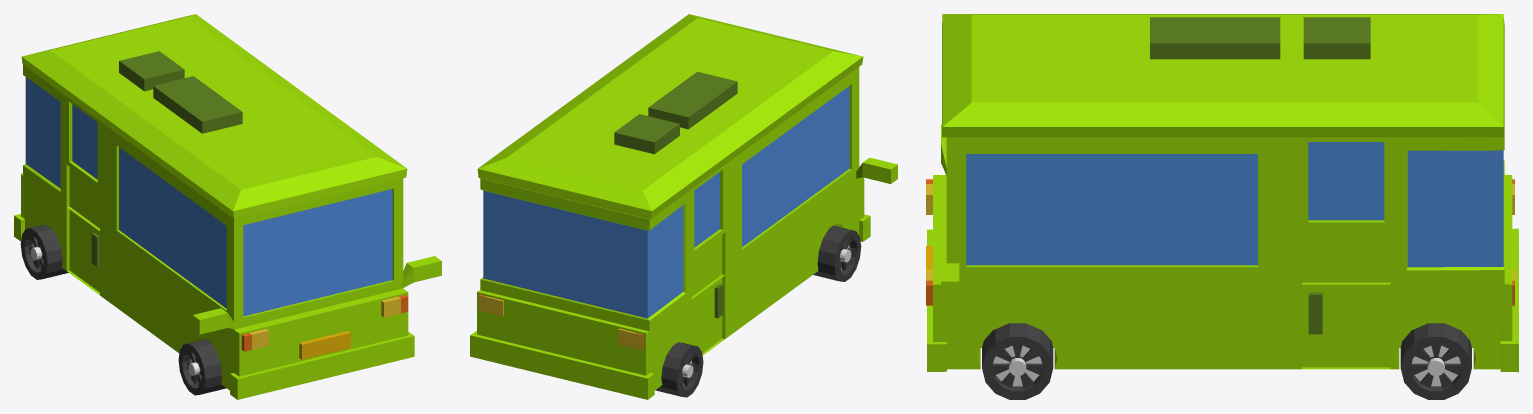
Rendered from bus.fbx.
3 renders of one model, left to right at view 1: azimuth 30°, elevation 25°; view 2: azimuth 150°, elevation 25°; view 3: azimuth 270°, elevation 25°, orthographic. The views are drawn at different scales.
Parts seen in each view (by area): view 1: bus.001, Cube.237, Cylinder.108, Cylinder.109, Cube.238, Cube.233, Cube.234, Cube.235; view 2: bus.001, Cube.237, Cylinder.108, Cylinder.109, Cube.238, Cube.236, Cube.233; view 3: bus.001, Cube.237, Cylinder.108, Cylinder.109, Cube.238, Cube.233, Cube.239.
Part boxes in pixels (box(x1,y1,x2,y2)): bus.001: box(14, 14, 414, 399); Cube.237: box(153, 76, 242, 133); Cylinder.108: box(178, 339, 226, 395); Cylinder.109: box(20, 224, 68, 279); Cube.238: box(119, 51, 184, 91); Cube.233: box(192, 256, 441, 334); Cube.234: box(241, 295, 408, 351); Cube.235: box(299, 331, 350, 359); bus.001: box(470, 14, 870, 399); Cube.237: box(648, 71, 737, 129); Cylinder.108: box(813, 225, 861, 281); Cylinder.109: box(655, 342, 703, 397); Cube.238: box(614, 114, 679, 154); Cube.236: box(478, 294, 643, 350); Cube.233: box(856, 157, 897, 183); bus.001: box(927, 14, 1518, 372); Cube.237: box(1150, 17, 1280, 59); Cylinder.108: box(982, 323, 1053, 399); Cylinder.109: box(1400, 323, 1471, 399); Cube.238: box(1303, 17, 1370, 59); Cube.233: box(941, 124, 959, 300); Cube.239: box(1308, 292, 1322, 334).
Size of the model in its own units: 201 by 175 by 321.
